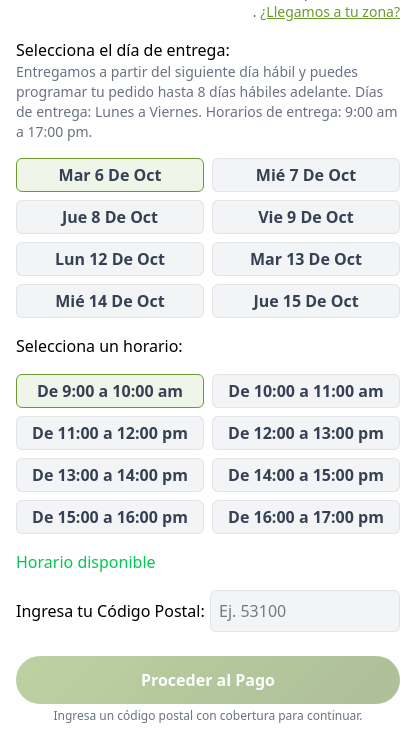
Test: CartContainer: zonas de entrega › zona extendida bajo el mínimo de $500: avisa cuánto falta y bloquea el pago
The width and height of the screenshot is (417, 741).
(page scrolled)
Step 1. Type "53227" into the field labelled "Ingresa tu Código Postal:" → {"x": 305, "y": 611}, box top-left (210, 590), bottom-right (400, 632)
(page scrolled)
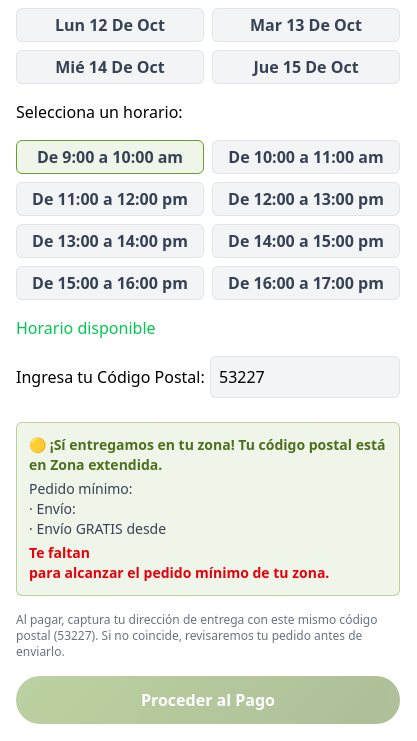
Expected: the button "Proceder al Pago" is disabled, top-left (16, 676), bottom-right (400, 724)
Expected: the text "Zona extendida" is shown, top-left (50, 455), bottom-right (158, 474)
Expected: the text "Te faltan para alcanzar el pedido mínimo de tu zona." is shown, top-left (29, 543), bottom-right (329, 582)
